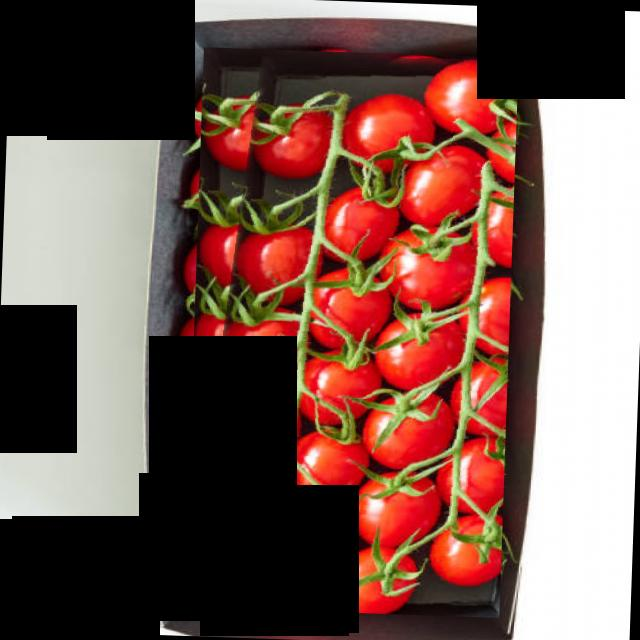tomatoes: (184, 47, 518, 618)
